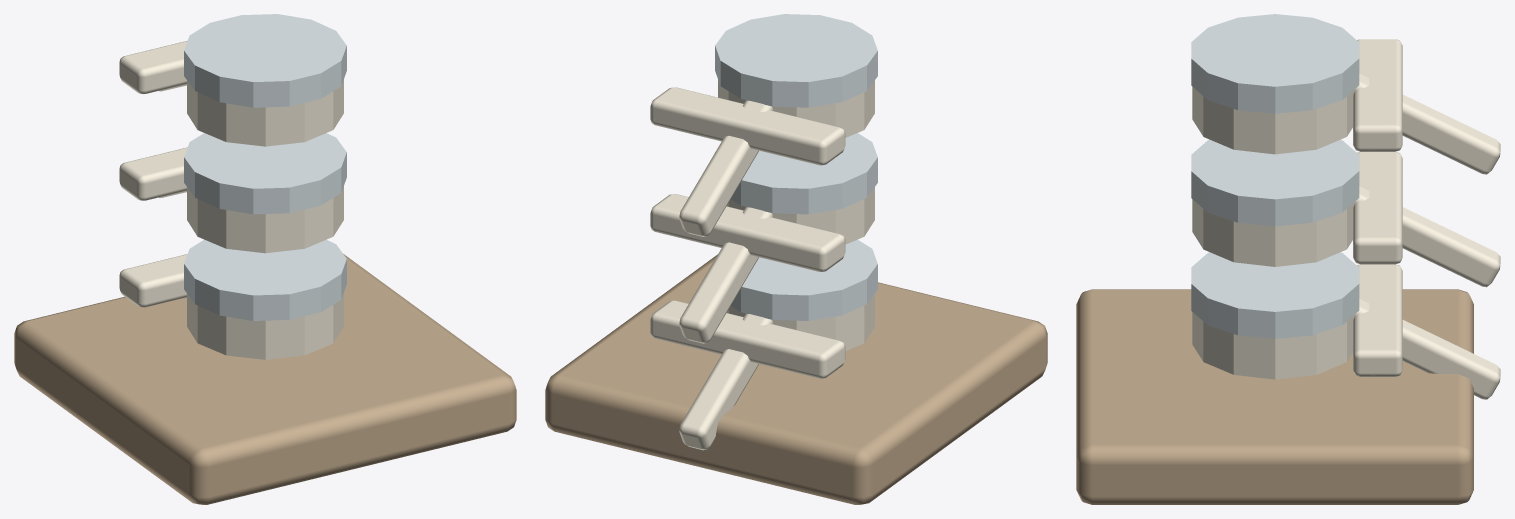
Rendered from human-anatomy-and-education-kit-vertebra-stack-76b7f5a8__38950.glb.
3 renders of one model, left to right at view 1: azimuth 30°, elevation 25°; view 2: azimuth 150°, elevation 25°; view 3: azimuth 270°, elevation 25°, orthographic. The views are drawn at different scales.
Visible parts, largest first — view 1: vertebra-stack; view 2: vertebra-stack; view 3: vertebra-stack.
Boxes of the visible parts, x1,y1,x2,y2 form: vertebra-stack: (14, 14, 516, 504); vertebra-stack: (545, 14, 1047, 504); vertebra-stack: (1076, 14, 1500, 504).
Size of the model in its own units: 0.24 by 0.251 by 0.2561.
